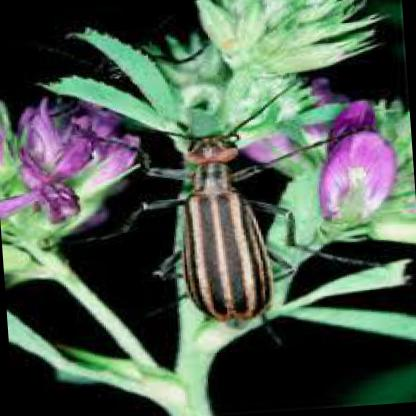blister beetle: (71, 79, 301, 330)
